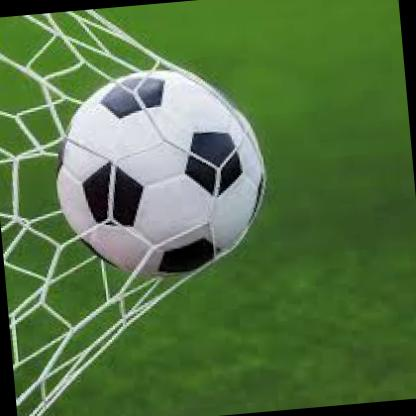ball: (48, 61, 274, 286)
